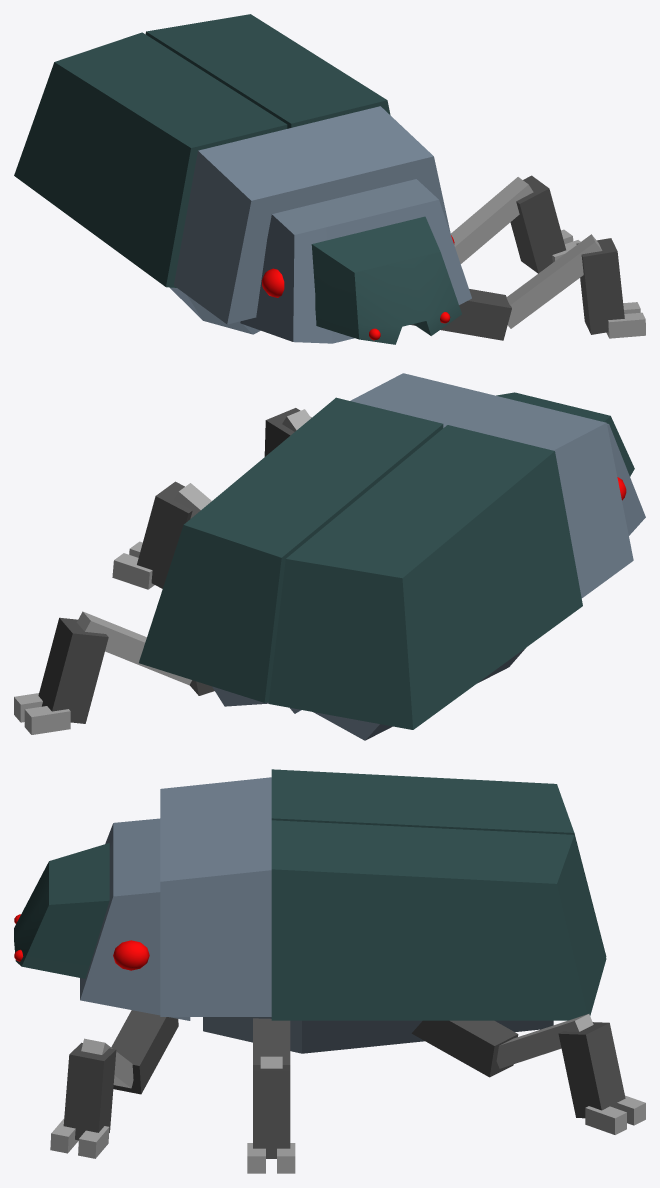
The model's file is MaintenanceScarab.FBX.
The picture shows the model from 3 angles, top to bottom: view 1: azimuth 30°, elevation 25°; view 2: azimuth 150°, elevation 25°; view 3: azimuth 270°, elevation 25°; orthographic projection. The views are drawn at different scales.
Parts seen in each view (by area): view 1: Object004, Box001, Box002, Box009, Object001, Box017, Box005, Box004, Box016, Box003, Box006, Box008 (+1 smaller); view 2: Object004, Object001, Box001, Box012, Box017, Box011, Box008, Box002, Box009, Box014, Box019, Box005 (+1 smaller); view 3: Object001, Box001, Object004, Box009, Box002, Box008, Box012, Box005, Box010, Box017, Box003, Box011 (+7 smaller).
Boxes of the visible parts, x1=… form: Object004: x1=14, y1=32, x2=287, y2=287; Box001: x1=174, y1=106, x2=450, y2=324; Box002: x1=311, y1=216, x2=461, y2=344; Box009: x1=240, y1=179, x2=471, y2=343; Object001: x1=145, y1=14, x2=390, y2=128; Box017: x1=510, y1=175, x2=565, y2=273; Box005: x1=576, y1=238, x2=624, y2=334; Box004: x1=506, y1=234, x2=602, y2=328; Box016: x1=451, y1=177, x2=533, y2=263; Box003: x1=410, y1=289, x2=511, y2=340; Box006: x1=606, y1=312, x2=645, y2=338; Box008: x1=169, y1=287, x2=260, y2=334; Object004: x1=268, y1=425, x2=582, y2=729; Object001: x1=139, y1=397, x2=443, y2=702; Box001: x1=350, y1=373, x2=633, y2=598; Box012: x1=38, y1=617, x2=108, y2=723; Box017: x1=137, y1=481, x2=192, y2=588; Box011: x1=76, y1=611, x2=191, y2=685; Box008: x1=212, y1=647, x2=526, y2=740; Box002: x1=496, y1=392, x2=634, y2=476; Box009: x1=607, y1=423, x2=645, y2=535; Box014: x1=24, y1=706, x2=70, y2=734; Box019: x1=112, y1=553, x2=154, y2=589; Box005: x1=264, y1=408, x2=311, y2=456; Object001: x1=271, y1=820, x2=606, y2=1020; Box001: x1=160, y1=777, x2=271, y2=1016; Object004: x1=271, y1=769, x2=606, y2=956; Box009: x1=80, y1=818, x2=190, y2=1020; Box002: x1=14, y1=843, x2=109, y2=978; Box008: x1=203, y1=1017, x2=553, y2=1053; Box012: x1=558, y1=1022, x2=625, y2=1118; Box005: x1=63, y1=1042, x2=116, y2=1140; Box010: x1=411, y1=1020, x2=518, y2=1077; Box017: x1=253, y1=1065, x2=290, y2=1158; Box003: x1=111, y1=1010, x2=178, y2=1094; Box011: x1=496, y1=1014, x2=593, y2=1068.
Bounding box in the file's own units: 66.69 × 31.39 × 85.19.
